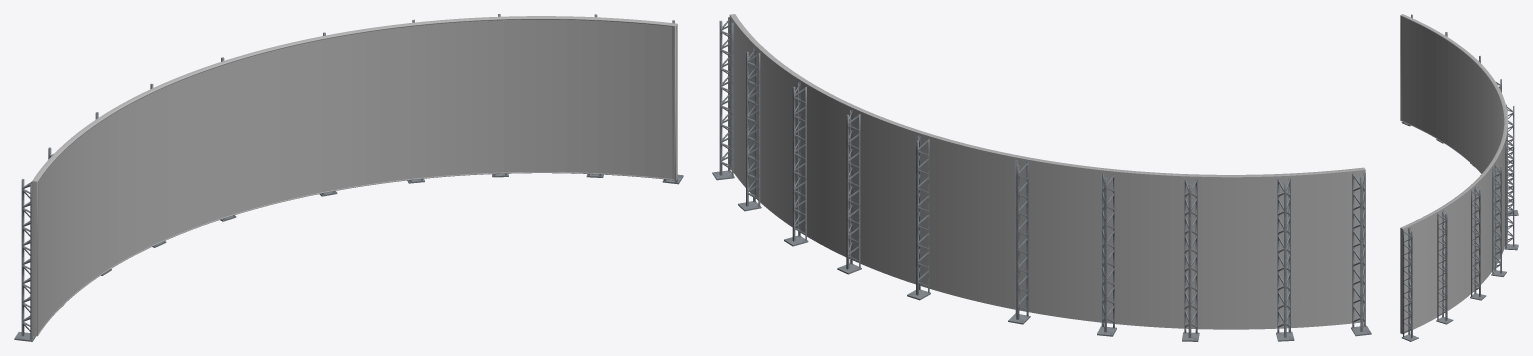
The model's file is Studio LED Backdrop.fbx.
3 renders of one model, left to right at view 1: azimuth 30°, elevation 25°; view 2: azimuth 150°, elevation 25°; view 3: azimuth 270°, elevation 25°, orthographic. The views are drawn at different scales.
Parts seen in each view (by area): view 1: Studio LED Backdrop Screen, Studio LED Side Stand Stand; view 2: Studio LED Backdrop Screen, Studio LED Side Stand Stand; view 3: Studio LED Backdrop Screen, Studio LED Side Stand Stand.
Boxes of the visible parts, <box> form: Studio LED Backdrop Screen: <box>32,16,677,336</box>; Studio LED Side Stand Stand: <box>14,14,683,341</box>; Studio LED Backdrop Screen: <box>729,14,1365,329</box>; Studio LED Side Stand Stand: <box>712,17,1371,341</box>; Studio LED Backdrop Screen: <box>1400,14,1507,334</box>; Studio LED Side Stand Stand: <box>1401,14,1518,341</box>.
Size of the model in its own units: 3480 by 797 by 783.
